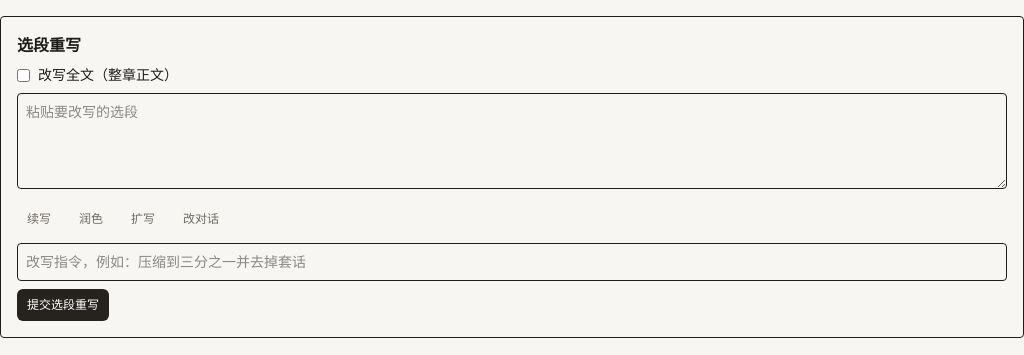
Test: SelectionRewrite › 段落四操作预设按钮填充钉死文案（C1）
Click the button with aria-label "预设-续写" at (39, 219), box [17, 203, 61, 235]
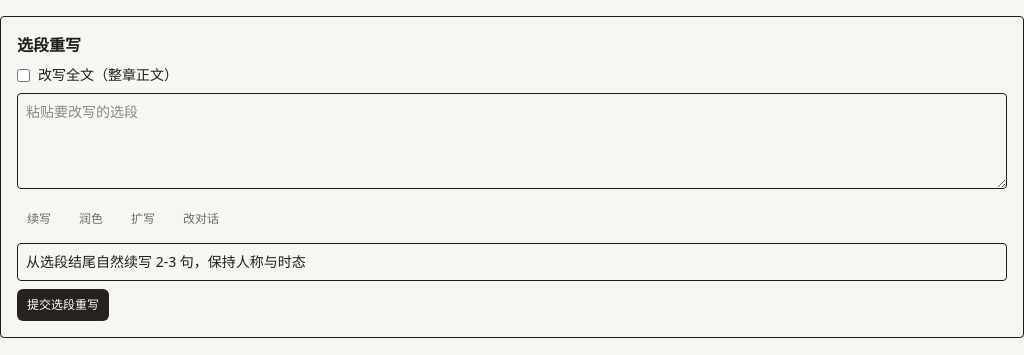
Check: the field named "改写指令" holds "从选段结尾自然续写 2-3 句，保持人称与时态", box [17, 243, 1007, 281]
Click the button with aria-label "预设-润色" at (91, 219), box [69, 203, 113, 235]
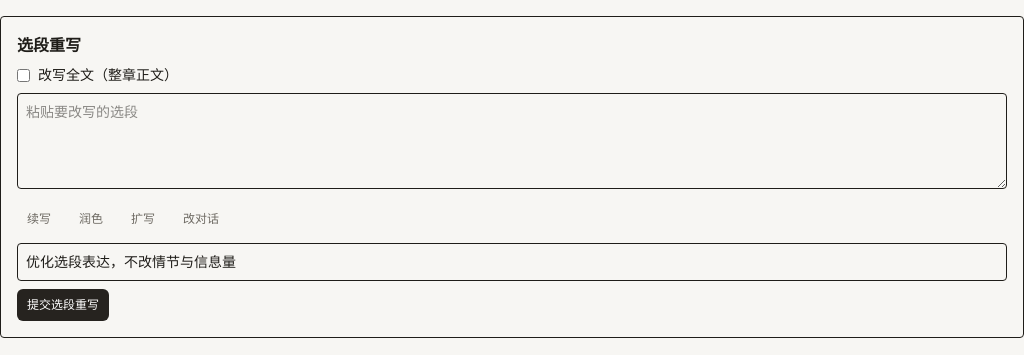
Check: the field named "改写指令" holds "优化选段表达，不改情节与信息量", box [17, 243, 1007, 281]
Click the button with aria-label "预设-扩写" at (143, 219), box [121, 203, 165, 235]
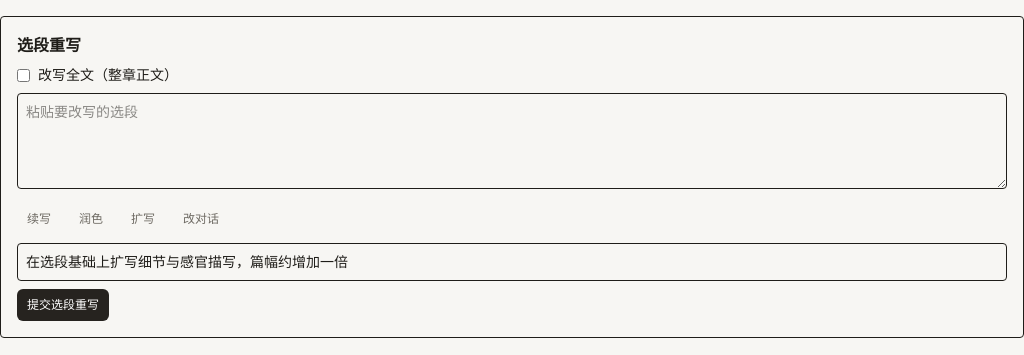
Check: the field named "改写指令" holds "在选段基础上扩写细节与感官描写，篇幅约增加一倍", box [17, 243, 1007, 281]
Click the button with aria-label "预设-改对话" at (201, 219), box [173, 203, 229, 235]
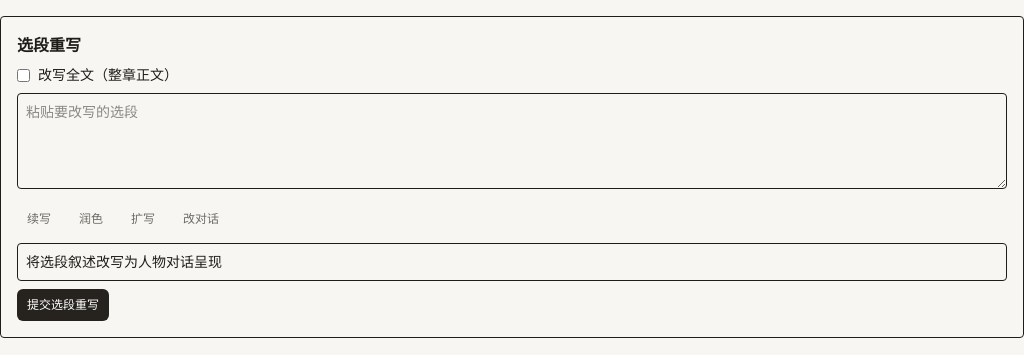
Check: the field named "改写指令" holds "将选段叙述改写为人物对话呈现", box [17, 243, 1007, 281]
